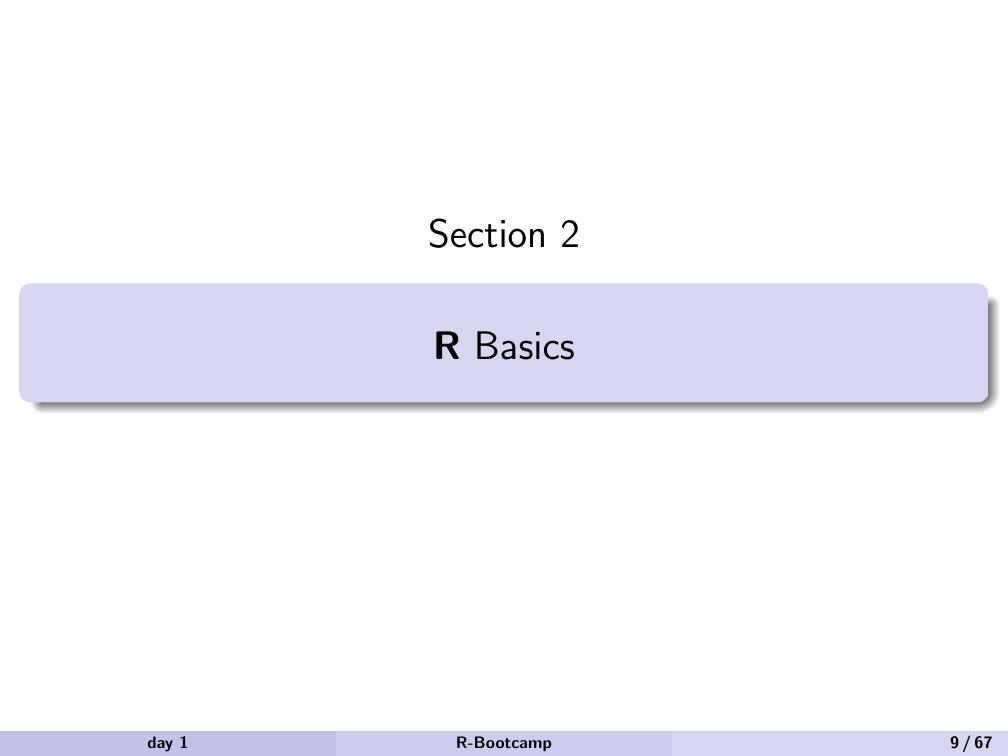Title: (422, 321, 580, 373)
